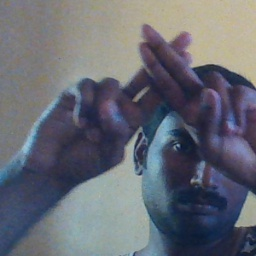F: (96, 15, 239, 141)
